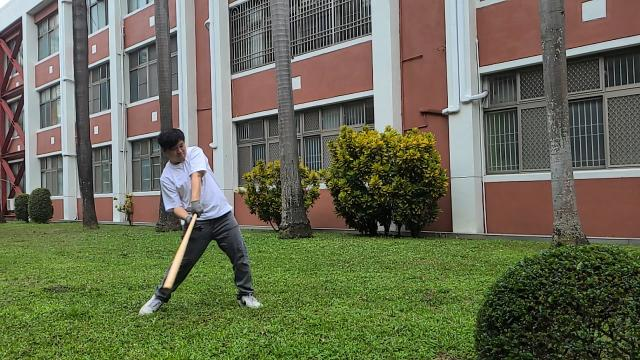bat: (164, 213, 200, 293)
